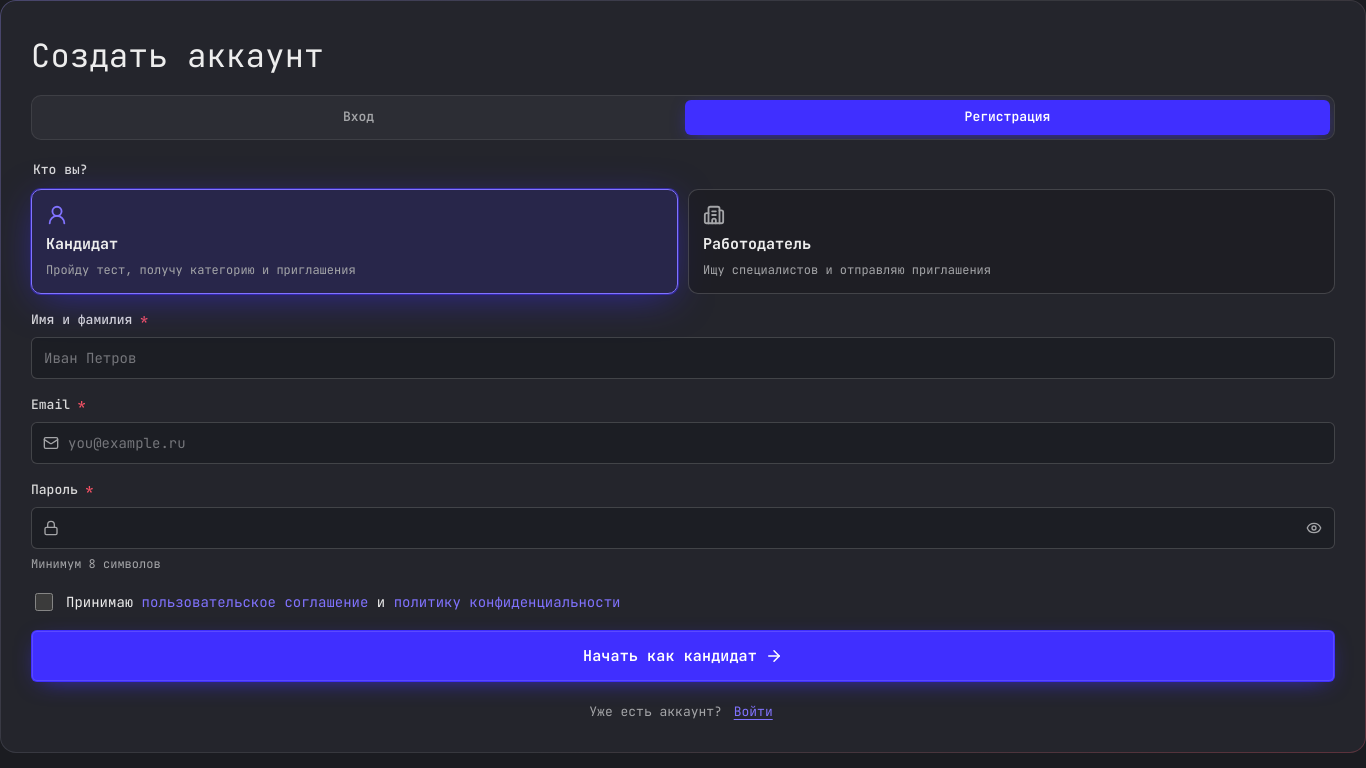
Test: AuthPage › переключает роль при регистрации
The width and height of the screenshot is (1366, 768).
Expected: the button "Начать как кандидат" is shown, [31,630,1335,682]
Click the radio button labelled "Работодатель Ищу специалистов и отправляю приглашения". click: (757, 244)
box: [688,189,1335,294]
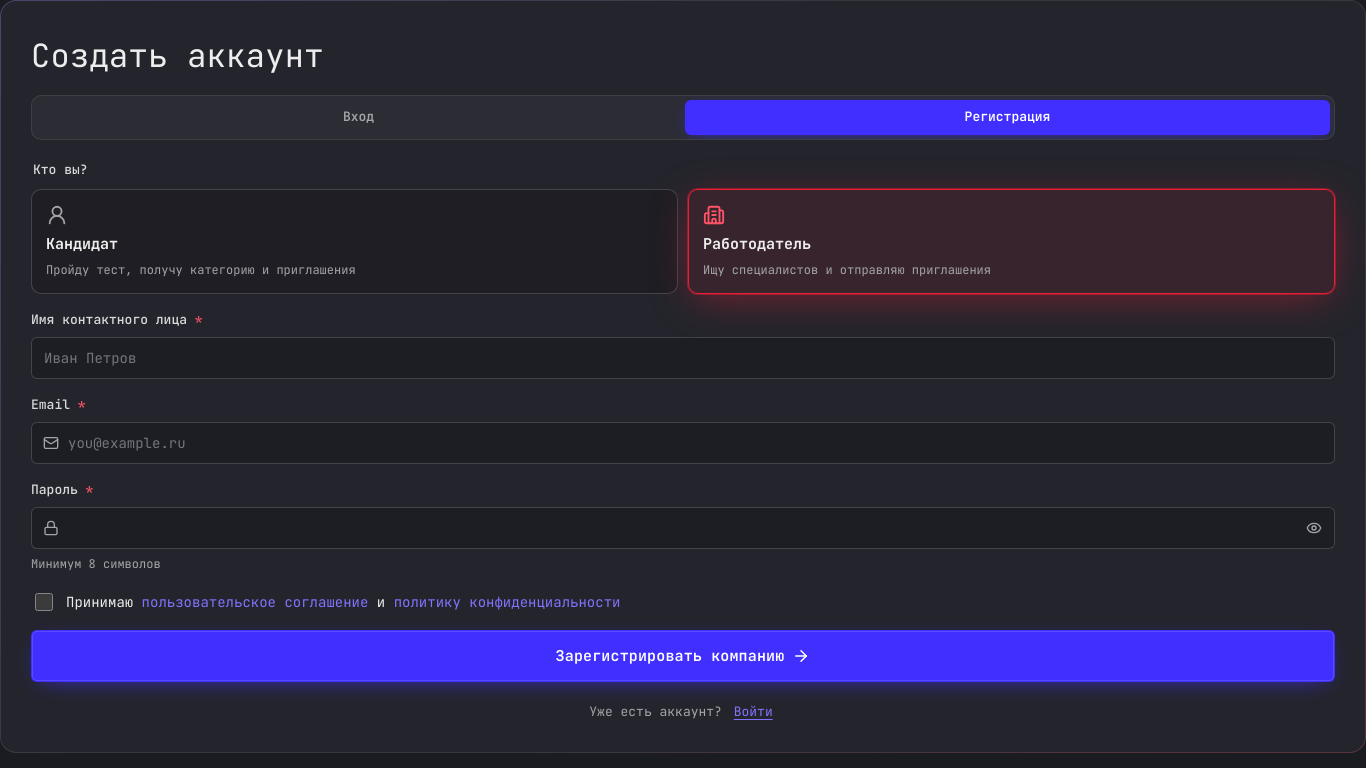
Expected: the field labelled "Имя контактного лица *" is shown, [31,337,1335,379]
Expected: the button "Зарегистрировать компанию" is shown, [31,630,1335,682]
